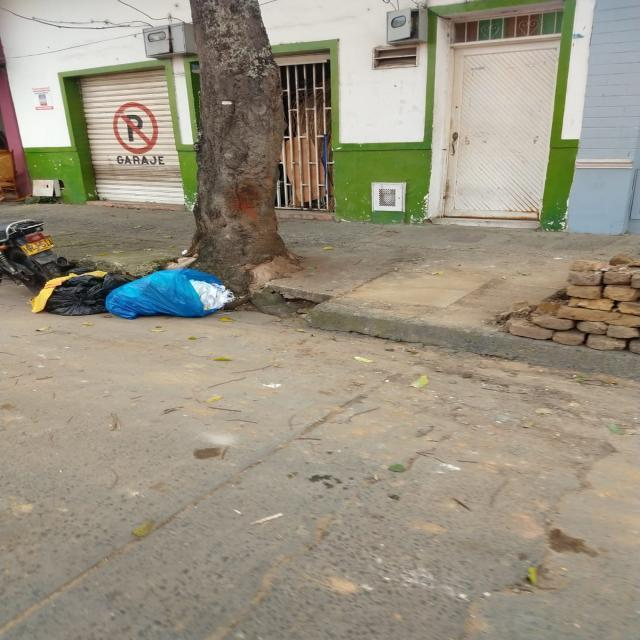Trashbag: (35, 254, 139, 325)
